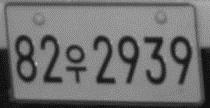2: (92, 34, 116, 84), (40, 34, 63, 84)
3: (141, 36, 167, 85)
8: (13, 34, 37, 82)
9: (169, 35, 192, 84), (117, 35, 139, 85)
우: (64, 43, 87, 84)
